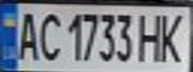1: (60, 9, 84, 62)
3: (112, 9, 139, 63), (97, 9, 118, 62)
7: (78, 9, 100, 62)
A: (12, 8, 42, 62)
C: (33, 8, 63, 62)
H: (136, 9, 166, 63)
K: (154, 9, 190, 64)
